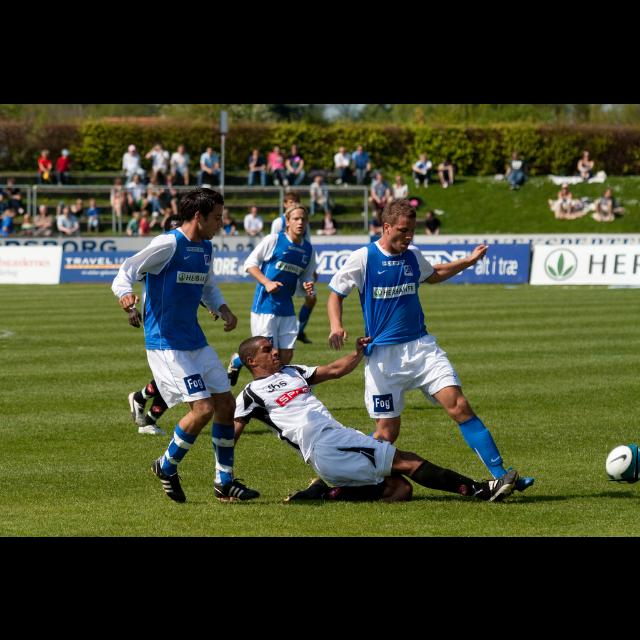Football: (606, 445, 638, 481)
